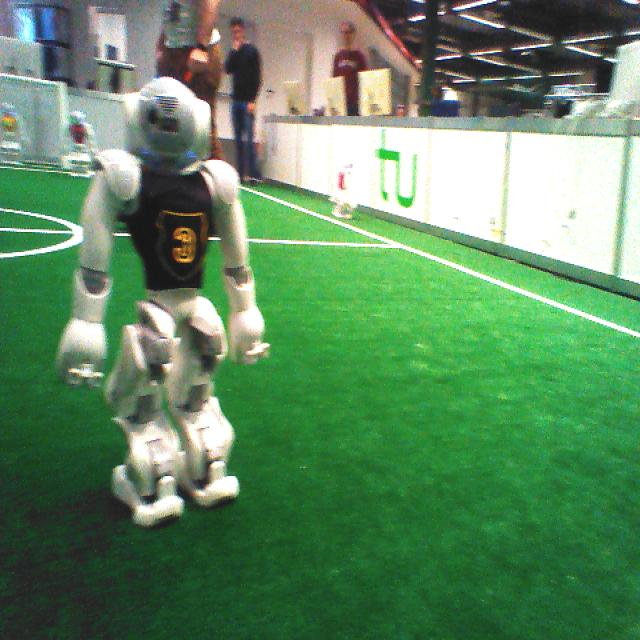goalpost: (58, 82, 67, 130)
